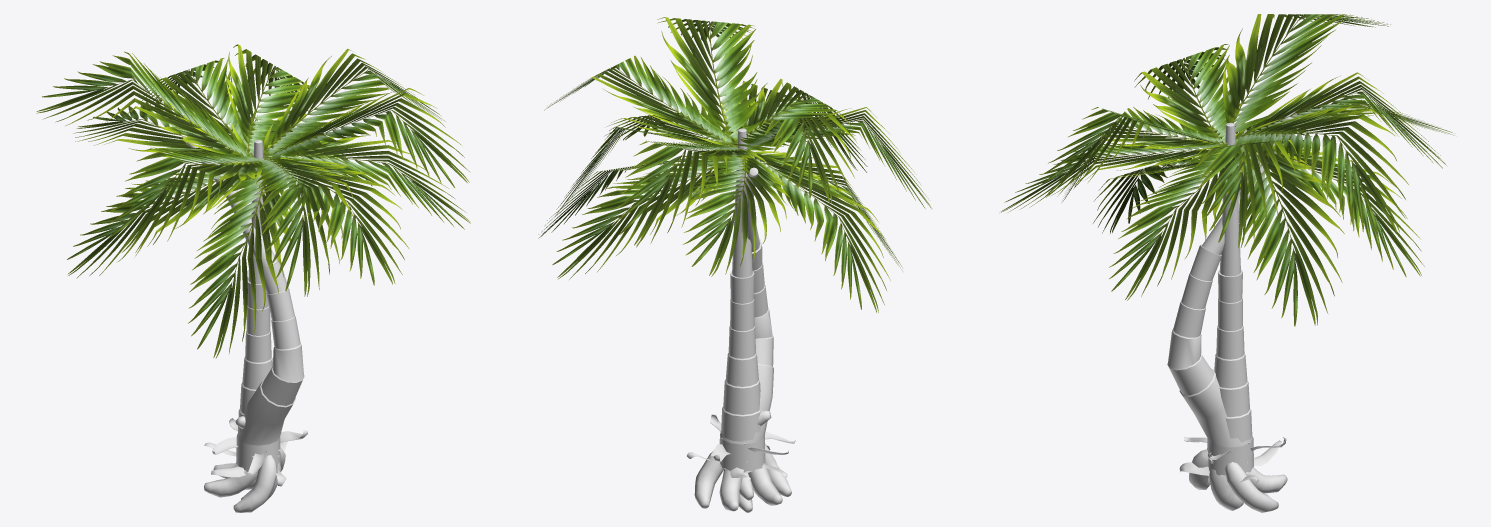
The model's file is Bananas+Palmeira+Caixa.fbx.
3 views of the same model, side by side, from view 1: azimuth 30°, elevation 25°; view 2: azimuth 150°, elevation 25°; view 3: azimuth 270°, elevation 25° (orthographic). The views are drawn at different scales.
Visible parts, largest first — view 1: Palmeira - Folhas, Palmeira - ToncoTorto, Palmeira - Tonco1, BANANAScacho, BANANAdescascada, BANANAcasca; view 2: Palmeira - Folhas, Palmeira - Tonco1, Palmeira - ToncoTorto, BANANAScacho, BANANAdescascada; view 3: Palmeira - Folhas, Palmeira - Tonco1, Palmeira - ToncoTorto, BANANAScacho, BANANAcasca.
Boxes of the visible parts, x1,y1,x2,y2 form: Palmeira - Folhas: (36, 44, 470, 358); Palmeira - ToncoTorto: (185, 142, 304, 445); Palmeira - Tonco1: (236, 139, 280, 472); BANANAScacho: (204, 447, 285, 512); BANANAdescascada: (212, 416, 307, 475); BANANAcasca: (204, 441, 287, 486); Palmeira - Folhas: (538, 17, 931, 312); Palmeira - Tonco1: (719, 128, 765, 472); Palmeira - ToncoTorto: (720, 167, 773, 444); BANANAScacho: (694, 444, 791, 512); BANANAdescascada: (710, 410, 795, 461); Palmeira - Folhas: (1001, 14, 1453, 326); Palmeira - Tonco1: (1207, 122, 1253, 476); Palmeira - ToncoTorto: (1167, 111, 1297, 447); BANANAScacho: (1189, 449, 1287, 512); BANANAcasca: (1179, 440, 1281, 482).
Bounding box in the file's own units: 1974 × 2195 × 2106.
3 materials, 1 textured.
